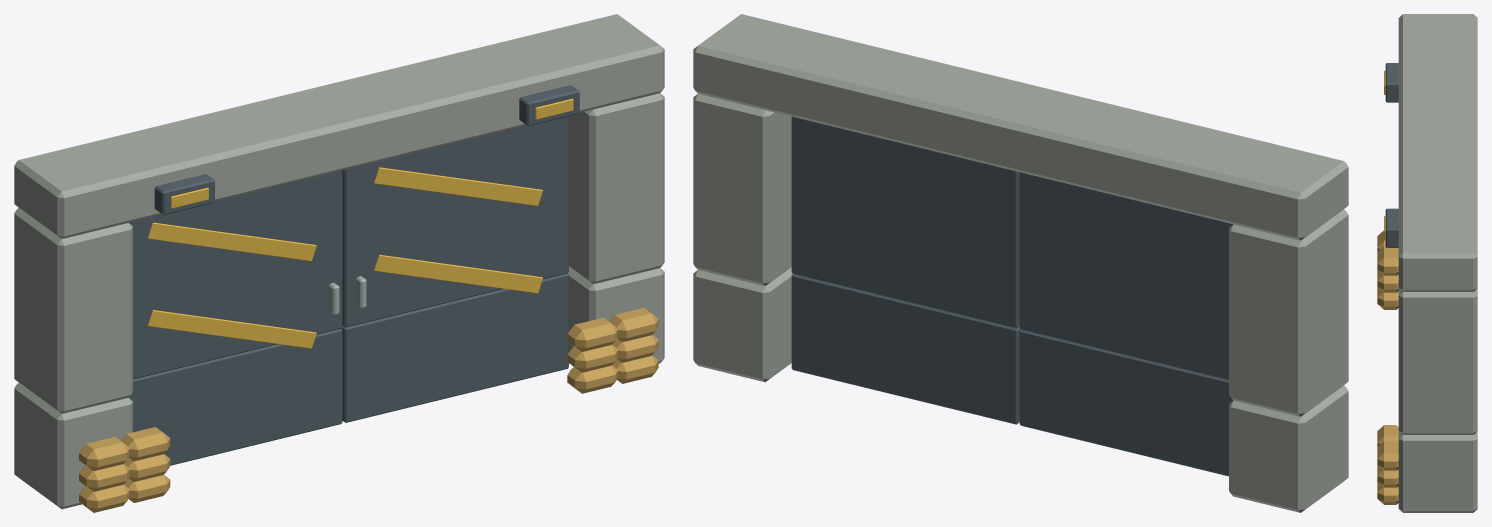
File: bunker_gate.glb
3 views of the same model, side by side, from view 1: azimuth 30°, elevation 25°; view 2: azimuth 150°, elevation 25°; view 3: azimuth 270°, elevation 25° (orthographic). The views are drawn at different scales.
Parts seen in each view (by area): view 1: Occlude_Gate_Mesh, Keep_Mesh; view 2: Occlude_Gate_Mesh, Keep_Mesh; view 3: Occlude_Gate_Mesh, Keep_Mesh.
Part boxes in pixels (x1,y1,x2,y2): Occlude_Gate_Mesh: (14,14,664,413); Keep_Mesh: (14,266,664,512); Occlude_Gate_Mesh: (693,14,1348,416); Keep_Mesh: (693,267,1348,512); Occlude_Gate_Mesh: (1384,14,1477,434); Keep_Mesh: (1377,230,1477,512).
Bounding box in the file's own units: 8 × 4 × 1.4.
